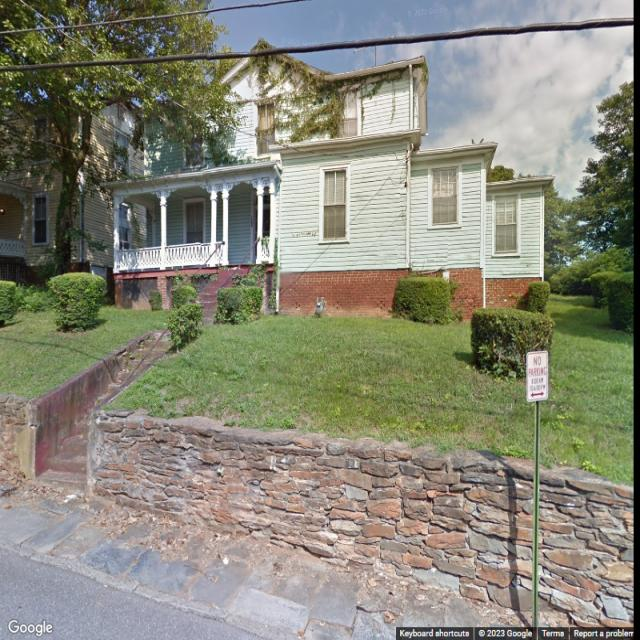House: (102, 38, 556, 318), (0, 65, 140, 286)
